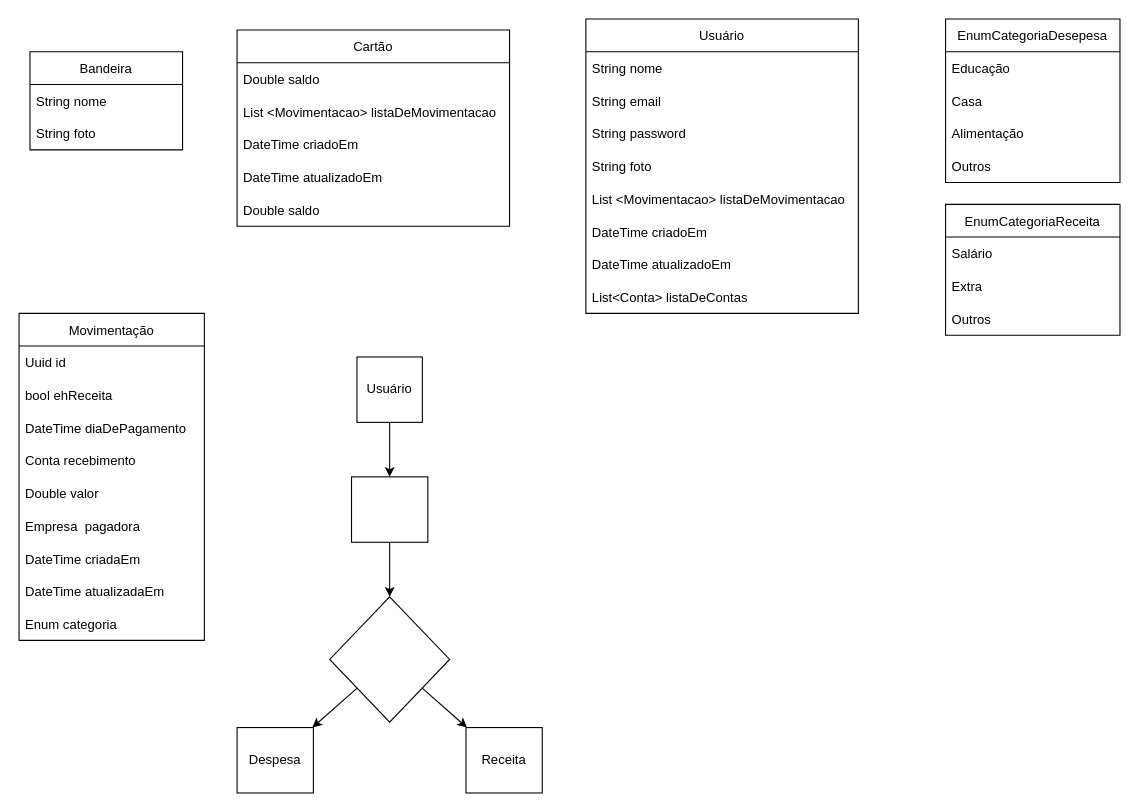
Image size: 1139x812. Some labels were removed from this diagram. Each missing label, with the centre of its shape:
"Conta(s)" belongs at pixel 389 509.
"Movimentações" belongs at pixel 389 659.
